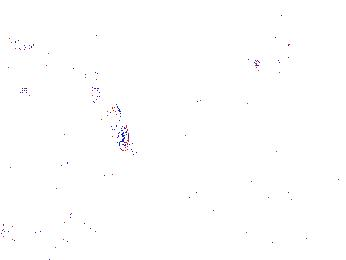X-ray fish: (238, 53, 264, 73), (274, 55, 287, 75)
glassfish: (79, 68, 134, 158)
redtail glassfish: (1, 29, 38, 54)
